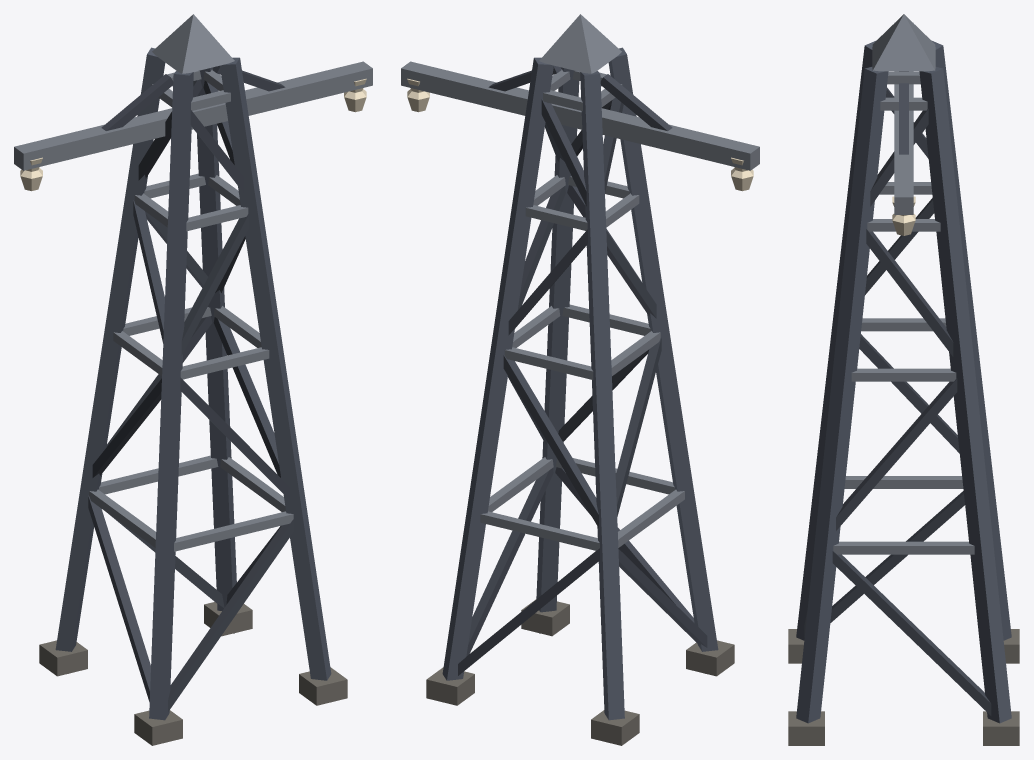
File: SM_PowerTower.fbx
The picture shows the model from 3 angles, left to right: view 1: azimuth 30°, elevation 25°; view 2: azimuth 150°, elevation 25°; view 3: azimuth 270°, elevation 25°; orthographic projection. The views are drawn at different scales.
Parts seen in each view (by area): view 1: SM_PowerTower; view 2: SM_PowerTower; view 3: SM_PowerTower.
Boxes of the visible parts, box(x1,y1,x2,y2) form: SM_PowerTower: box(14, 14, 372, 745); SM_PowerTower: box(401, 14, 759, 745); SM_PowerTower: box(788, 14, 1019, 745).
Size of the model in its own units: 6.8 by 12.47 by 3.8.
